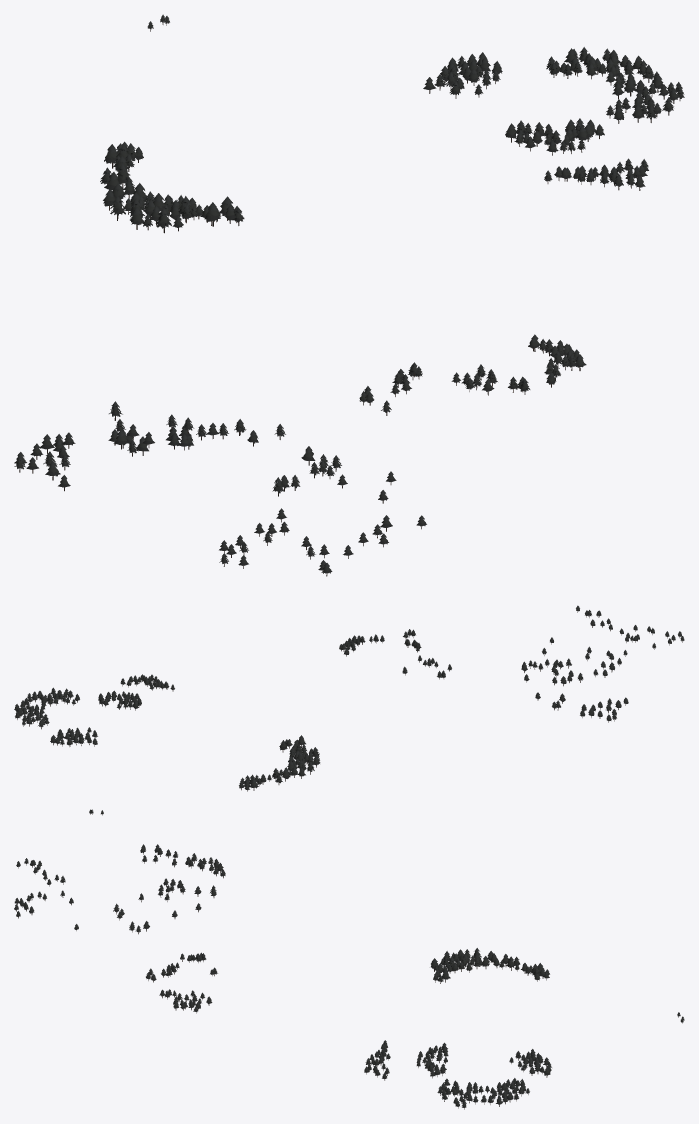
File: Tree_Pine.fbx
3 views of the same model, one above another, from view 1: azimuth 30°, elevation 25°; view 2: azimuth 150°, elevation 25°; view 3: azimuth 270°, elevation 25° (orthographic). The views are drawn at different scales.
Parts seen in each view (by area): view 1: Combined_Tree2; view 2: Combined_Tree2; view 3: Combined_Tree2.
Boxes of the visible parts, x1,y1,x2,y2 form: Combined_Tree2: (14, 14, 684, 576); Combined_Tree2: (14, 605, 684, 815); Combined_Tree2: (14, 844, 684, 1109).
Size of the model in its own units: 35230 by 3098 by 41361.
Materials: 1 (1 with a texture image).
